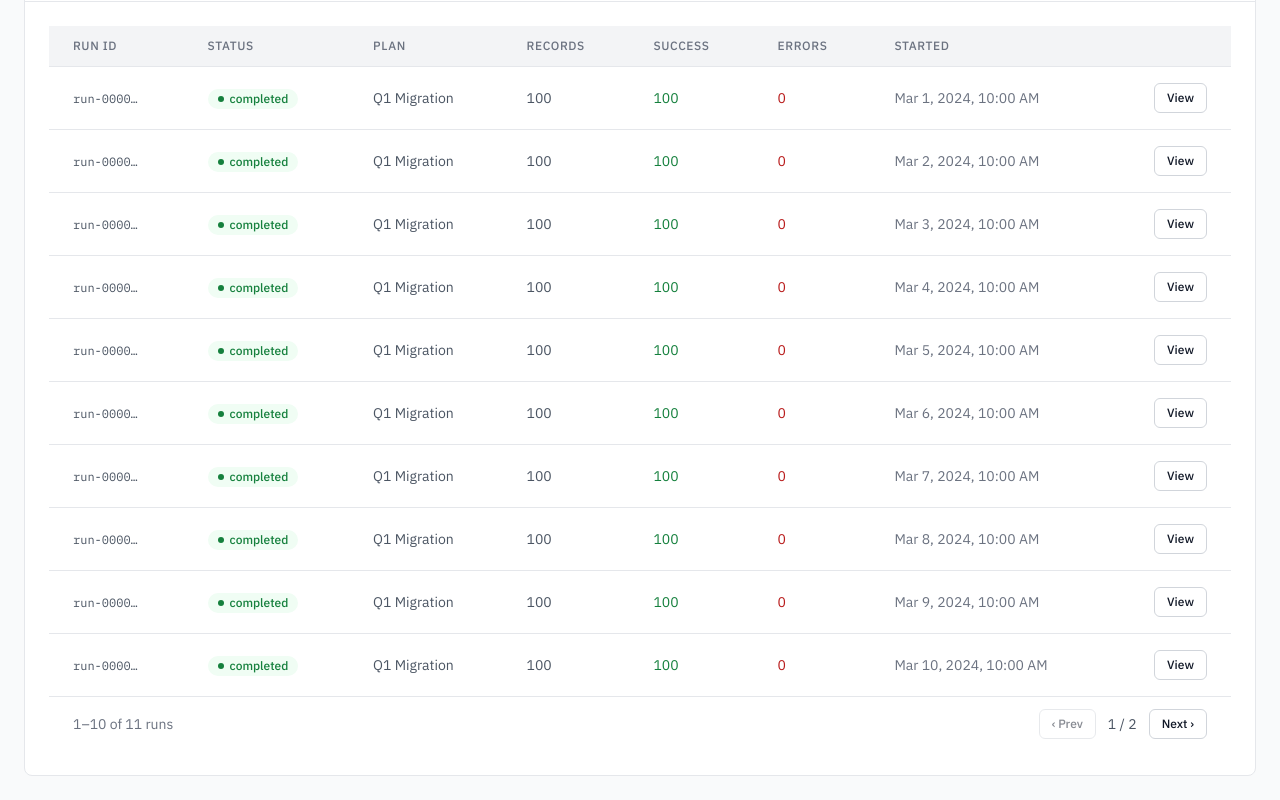
RunsPage › navigates to page 2 and shows the remaining run
(page scrolled)
Click the button with aria-label "next page" at (1178, 724), box [1149, 709, 1207, 739]
(page scrolled)
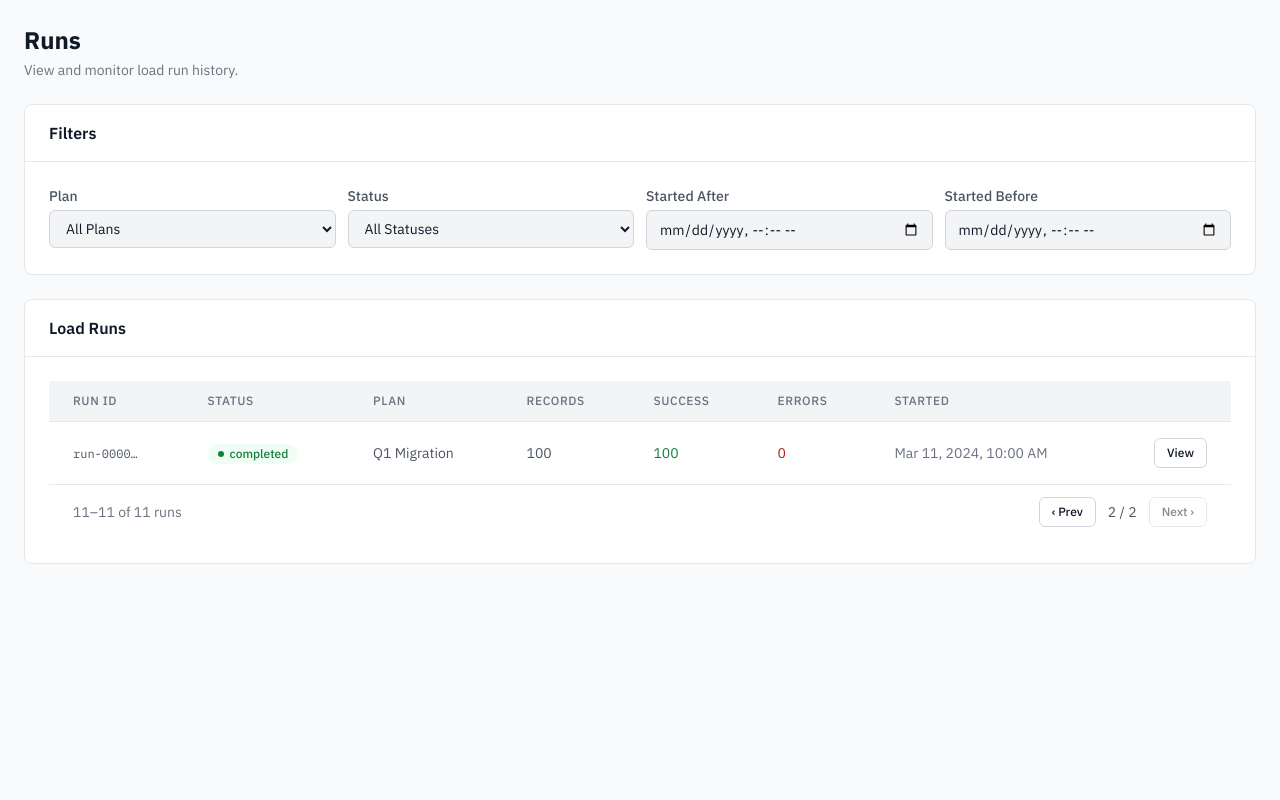
Check: the number of buttons "View" is 1, box [1154, 438, 1207, 468]
Check: the text "11–11 of 11 runs" is shown, box [73, 502, 182, 522]
Check: the text "2 / 2" is shown, box [1108, 503, 1137, 521]
